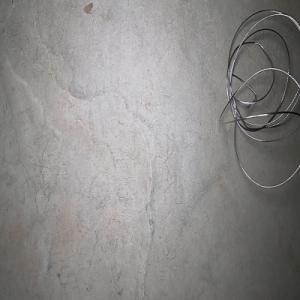Wire: (219, 9, 300, 188)
